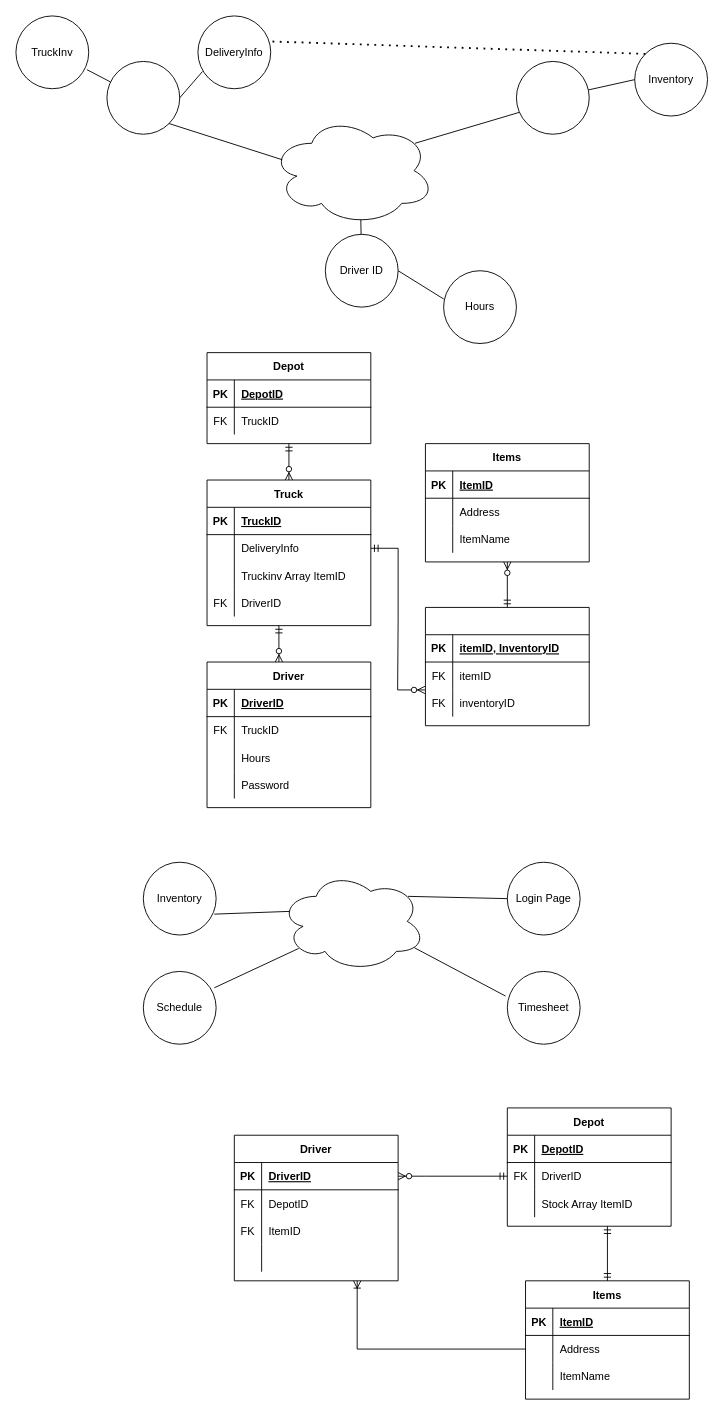
This 723x1415 diagram has some shape labels left out. Each missing label, with the box of its shape:
Depots: (516, 61, 589, 134)
Required Data: (270, 115, 435, 225)
Truck ID: (106, 61, 180, 134)
Truck_Items: (425, 607, 589, 726)
Website: (279, 870, 425, 971)
